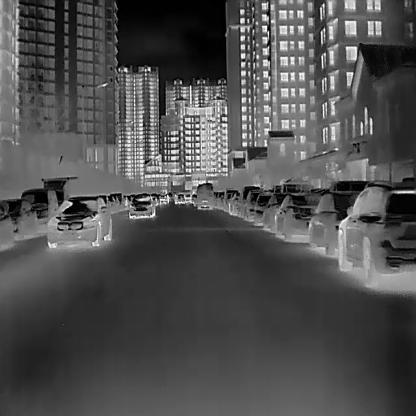car: (338, 180, 416, 286), (45, 193, 111, 246), (307, 191, 361, 253), (274, 192, 321, 243), (19, 187, 58, 230), (0, 198, 35, 238), (262, 192, 288, 232), (245, 186, 264, 223), (128, 192, 155, 217), (252, 193, 272, 225), (174, 190, 192, 202), (106, 195, 116, 211)
truck: (41, 176, 78, 204), (197, 182, 215, 209)
